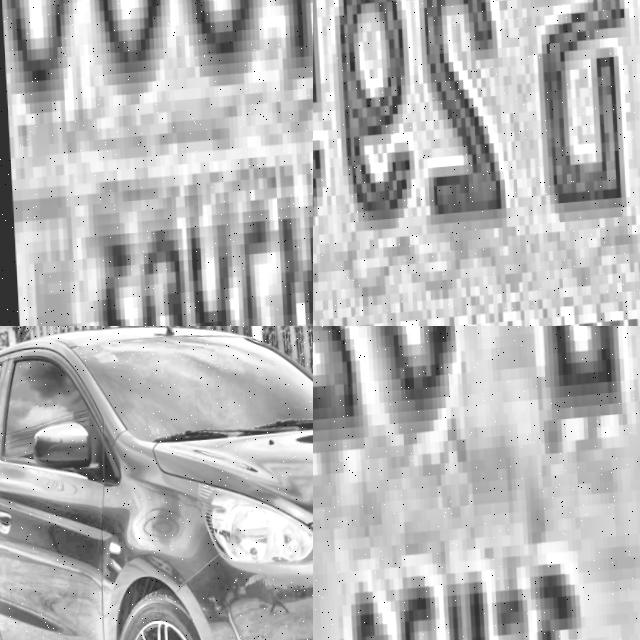license-plate: (313, 0, 640, 326), (313, 326, 640, 640), (0, 0, 313, 326)
